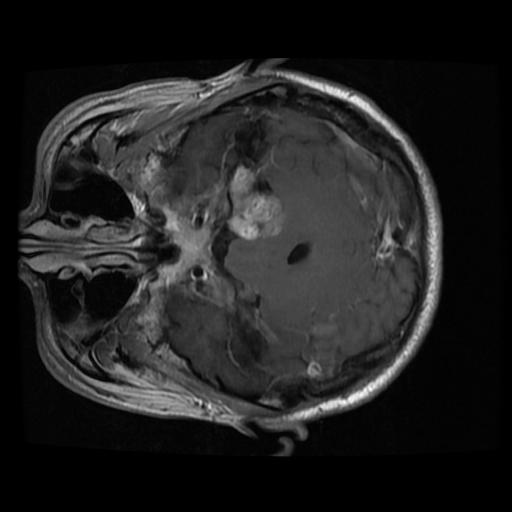meningioma: (227, 161, 283, 241)
